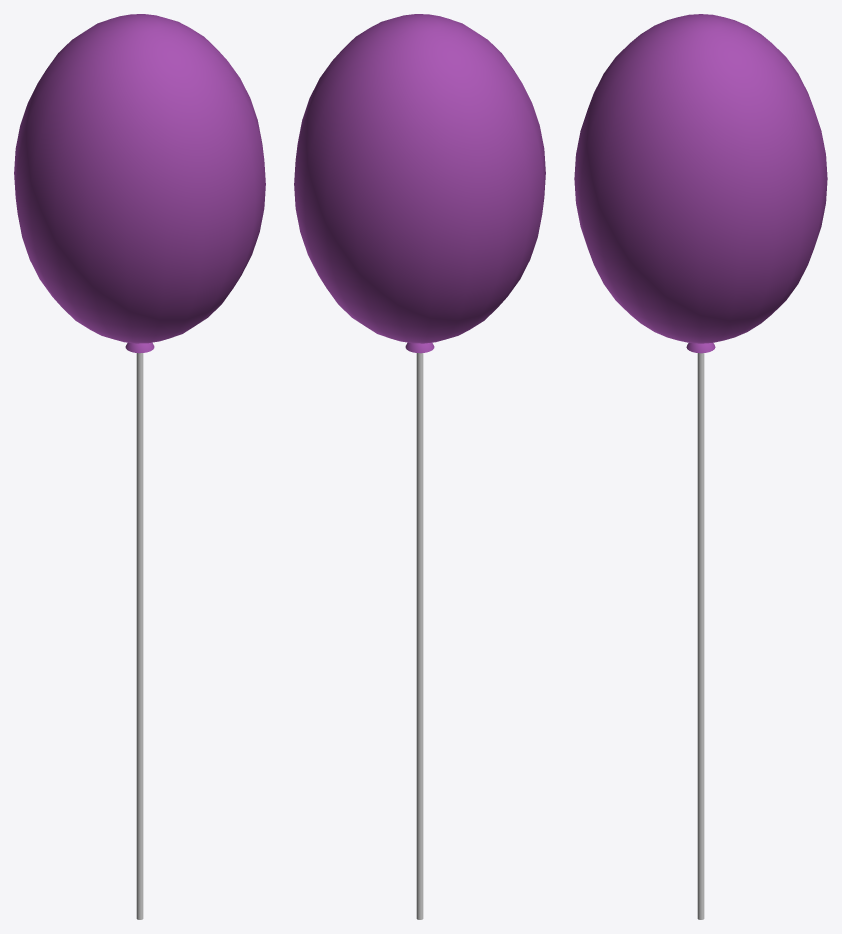
File: Boardwalk_Pu_Balloons.fbx
3 views of the same model, side by side, from view 1: azimuth 30°, elevation 25°; view 2: azimuth 150°, elevation 25°; view 3: azimuth 270°, elevation 25° (orthographic).
Visible parts, largest first — view 1: Balloon, Balloon_String; view 2: Balloon, Balloon_String; view 3: Balloon, Balloon_String.
Boxes of the visible parts, x1,y1,x2,y2 form: Balloon: (14,14,265,343); Balloon_String: (136,353,143,919); Balloon: (294,14,545,343); Balloon_String: (416,353,423,919); Balloon: (574,14,827,343); Balloon_String: (697,353,704,919).
Size of the model in its own units: 2 by 7.81 by 2.
